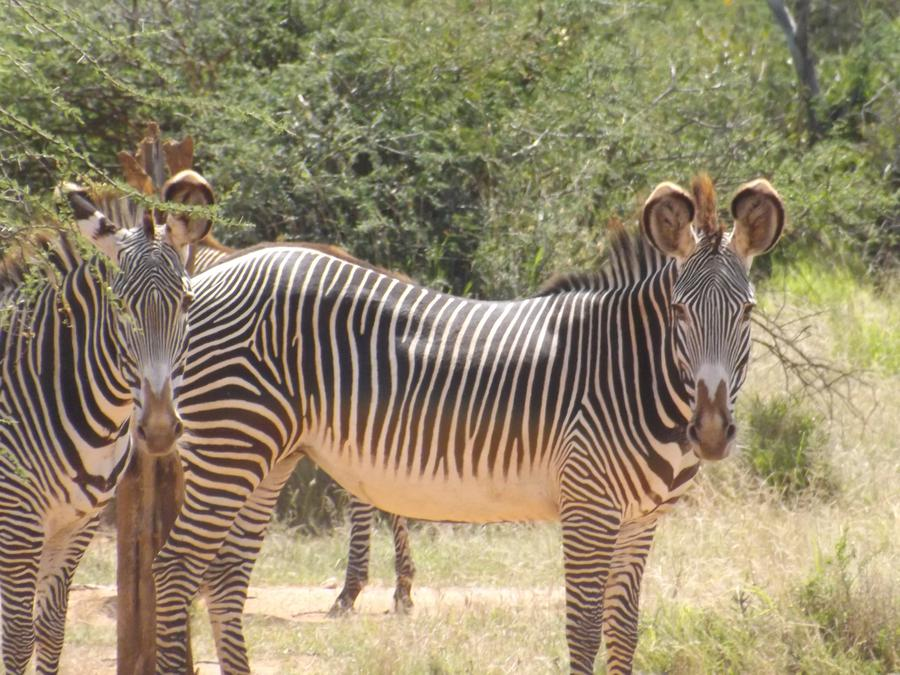zebra_grevys: (206, 216, 641, 526)
